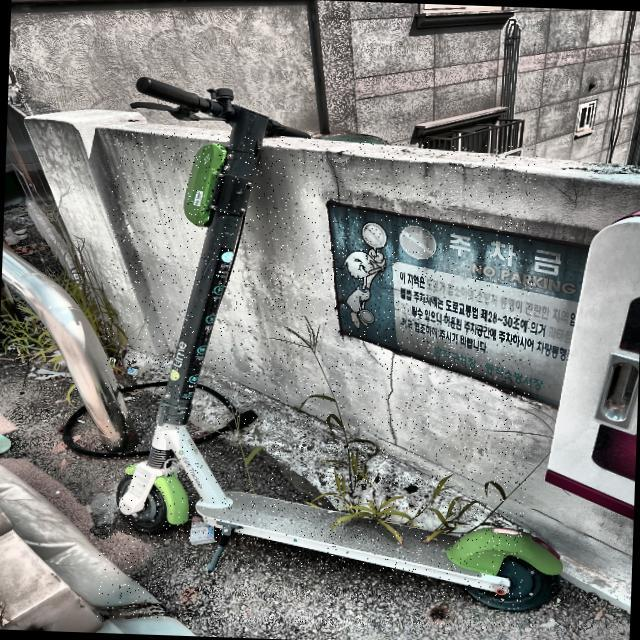bike: (114, 71, 564, 616)
traffic light: (545, 202, 640, 524)
